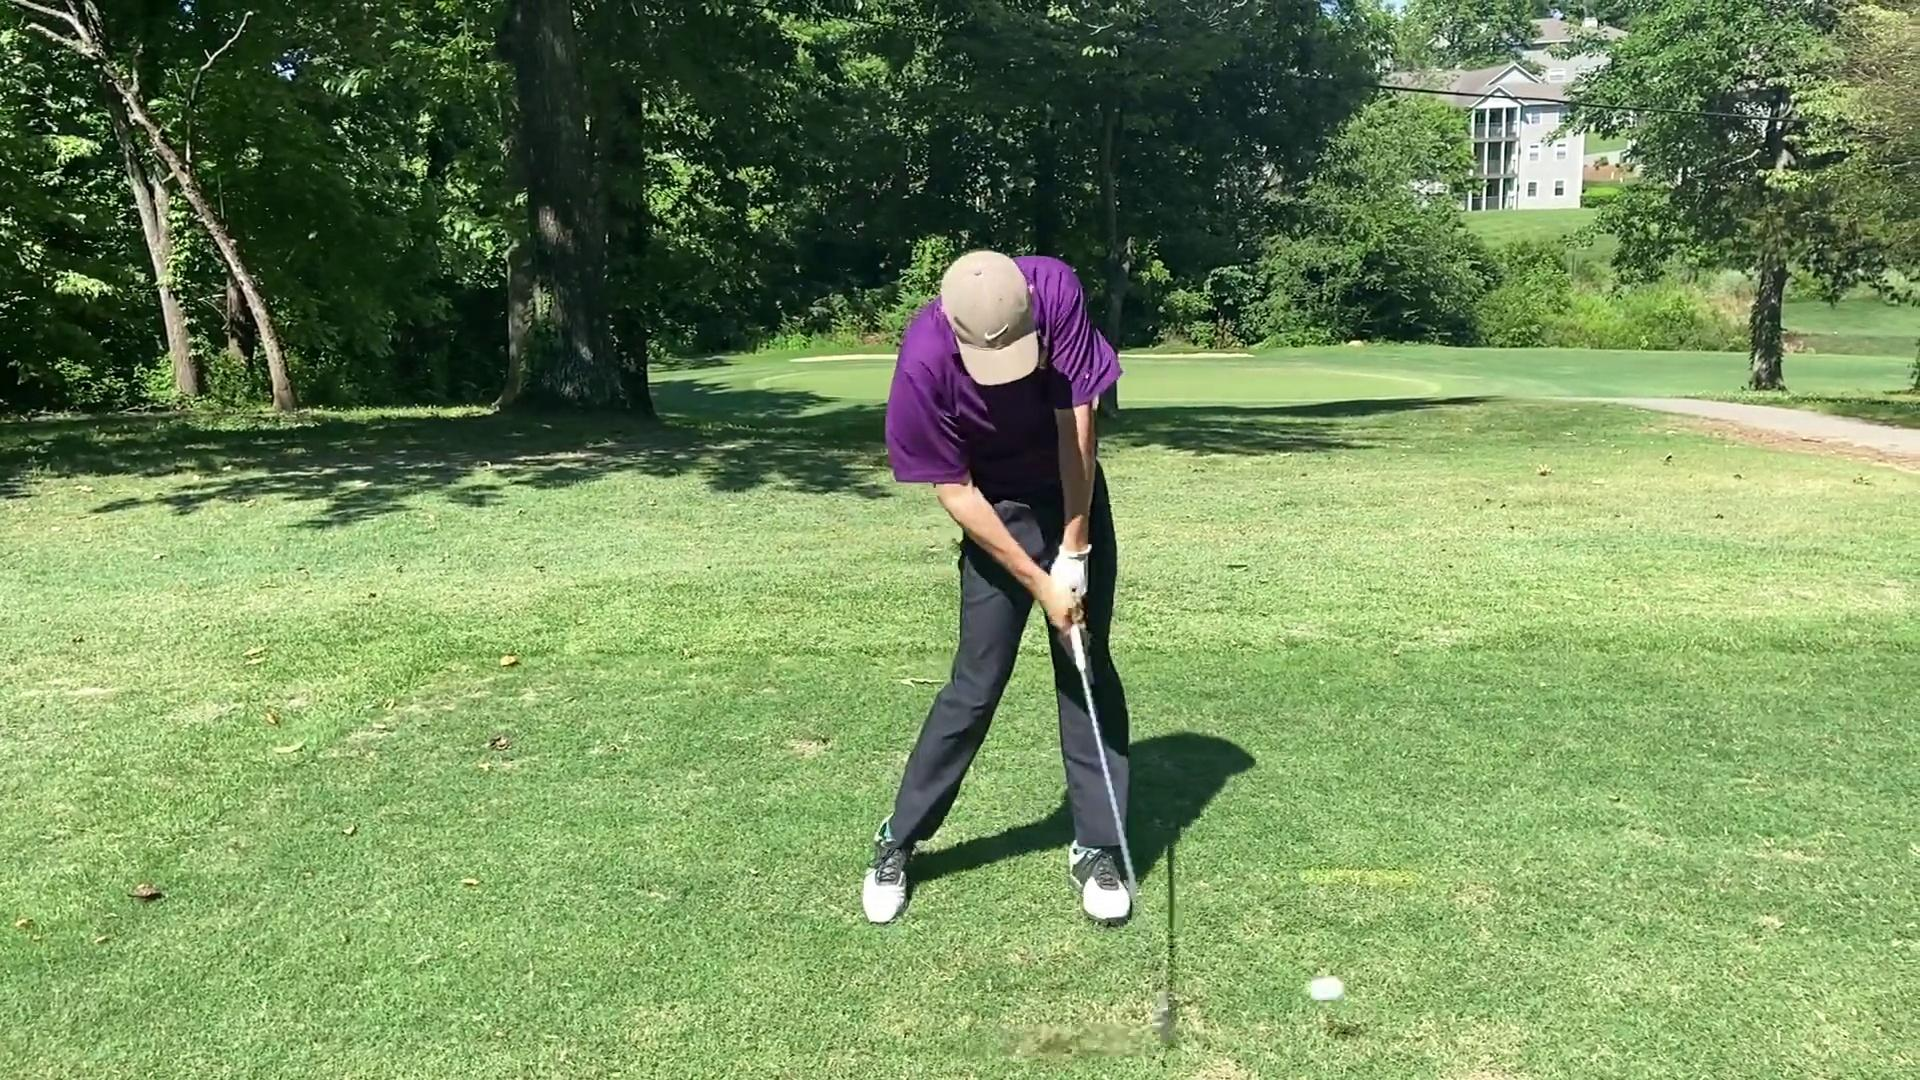GolfBall: (1302, 971, 1346, 1001)
